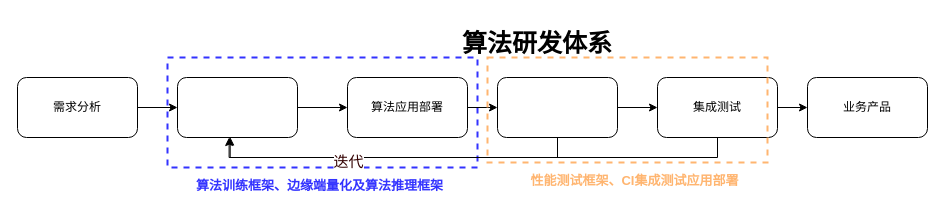
This 945x214 diagram has some shape labels left out. The shapes that lost their labels are listed below. From the top down, each one's centre as x and y in pixels, then its label:
At point 237,107: "算法开发".
At point 557,107: "性能测试".
